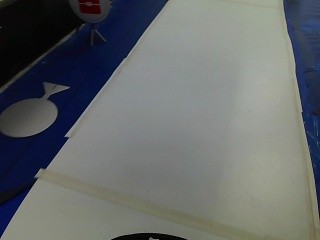company: (65, 0, 111, 24)
